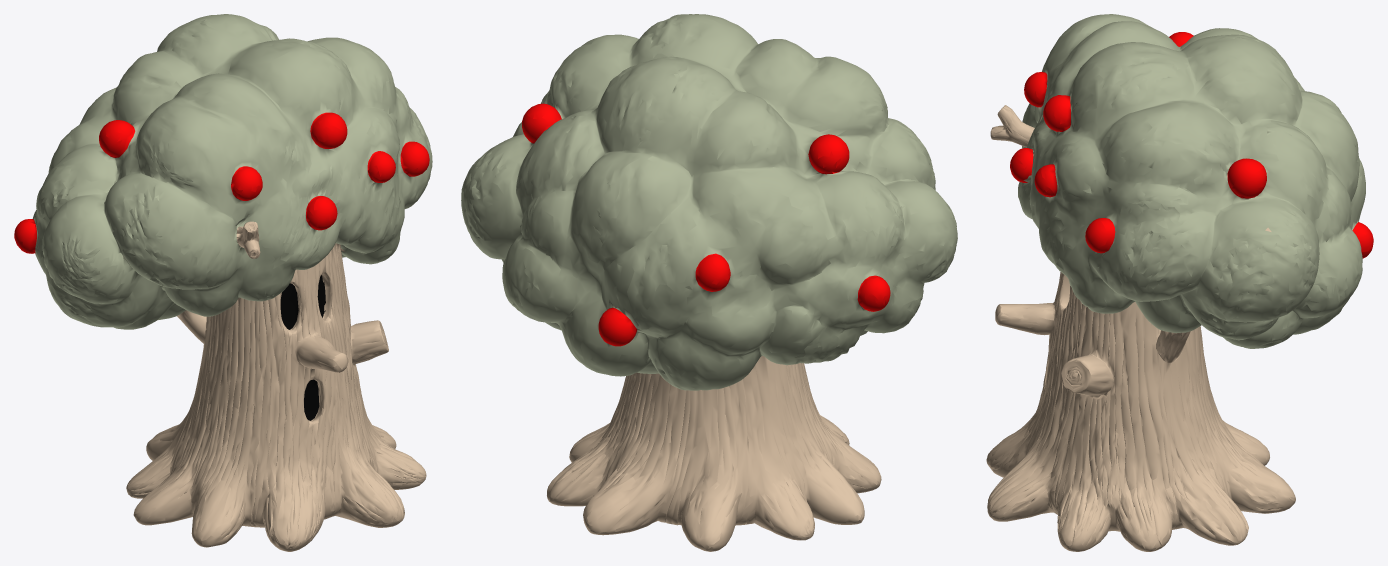
The picture shows the model from 3 angles, left to right: view 1: azimuth 30°, elevation 25°; view 2: azimuth 150°, elevation 25°; view 3: azimuth 270°, elevation 25°; orthographic projection. The views are drawn at different scales.
Parts seen in each view (by area): view 1: imagetostl_mesh0; view 2: imagetostl_mesh0; view 3: imagetostl_mesh0.
Boxes of the visible parts, x1,y1,x2,y2 form: imagetostl_mesh0: [14, 14, 432, 551]; imagetostl_mesh0: [461, 14, 957, 551]; imagetostl_mesh0: [986, 14, 1373, 551].
Bounding box in the file's own units: 16236 × 17159 × 13300.
